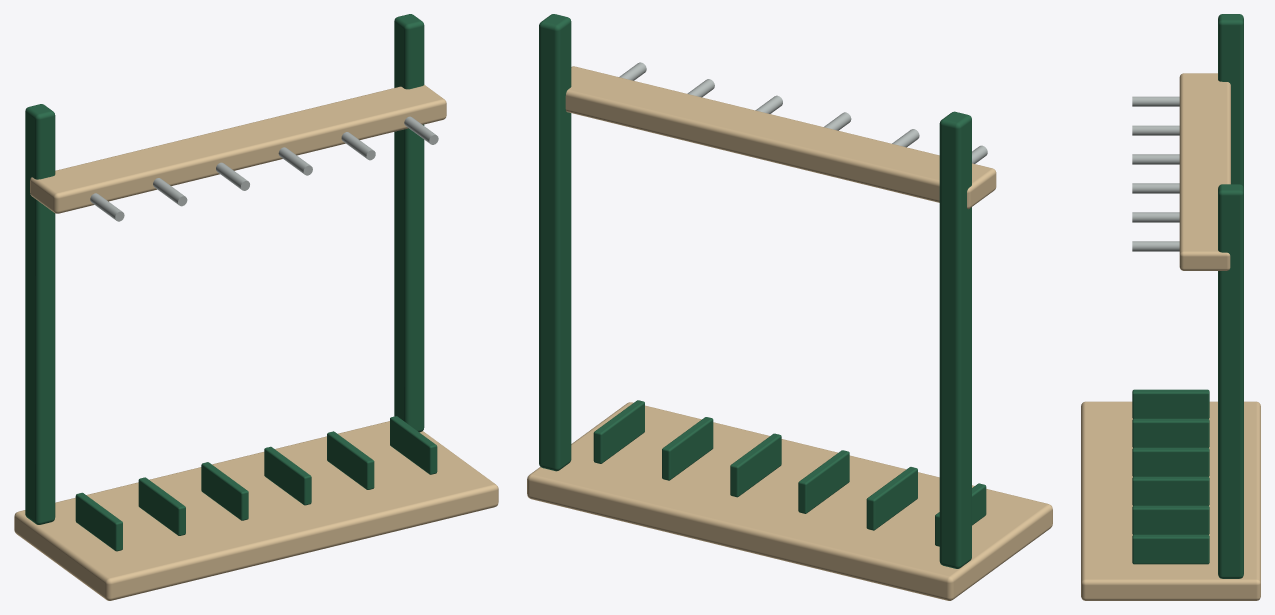
The model's file is cricket-ground-and-pavilion-bat-storage-rack-c6b3c429__31312.glb.
3 views of the same model, side by side, from view 1: azimuth 30°, elevation 25°; view 2: azimuth 150°, elevation 25°; view 3: azimuth 270°, elevation 25° (orthographic). The views are drawn at different scales.
Visible parts, largest first — view 1: bat-storage-rack; view 2: bat-storage-rack; view 3: bat-storage-rack.
Part boxes in pixels (x1,y1,x2,y2): bat-storage-rack: (14,14,498,600); bat-storage-rack: (527,14,1052,600); bat-storage-rack: (1081,14,1260,600).
Size of the model in its own units: 1 by 1.06 by 0.42.
